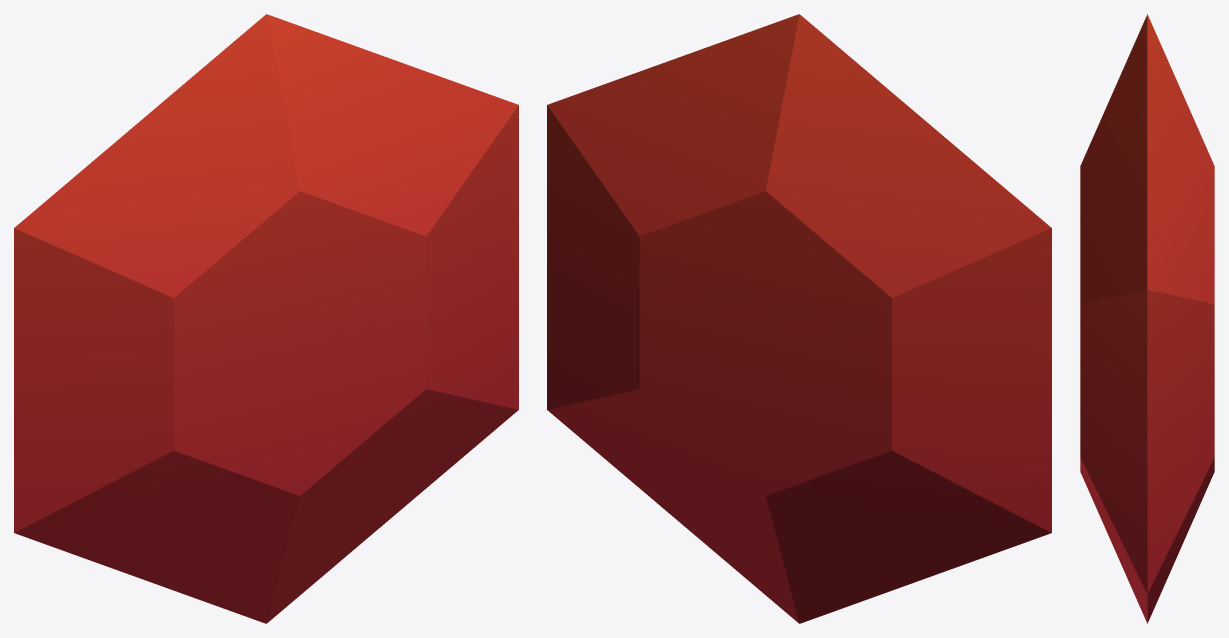
Rendered from Gem9.fbx.
3 renders of one model, left to right at view 1: azimuth 30°, elevation 25°; view 2: azimuth 150°, elevation 25°; view 3: azimuth 270°, elevation 25°, orthographic.
Visible parts, largest first — view 1: Gem9; view 2: Gem9; view 3: Gem9.
Boxes of the visible parts, x1,y1,x2,y2 form: Gem9: (14, 14, 518, 623); Gem9: (547, 14, 1051, 623); Gem9: (1080, 14, 1214, 623).
Bounding box in the file's own units: 0.433 × 0.5 × 0.1.
